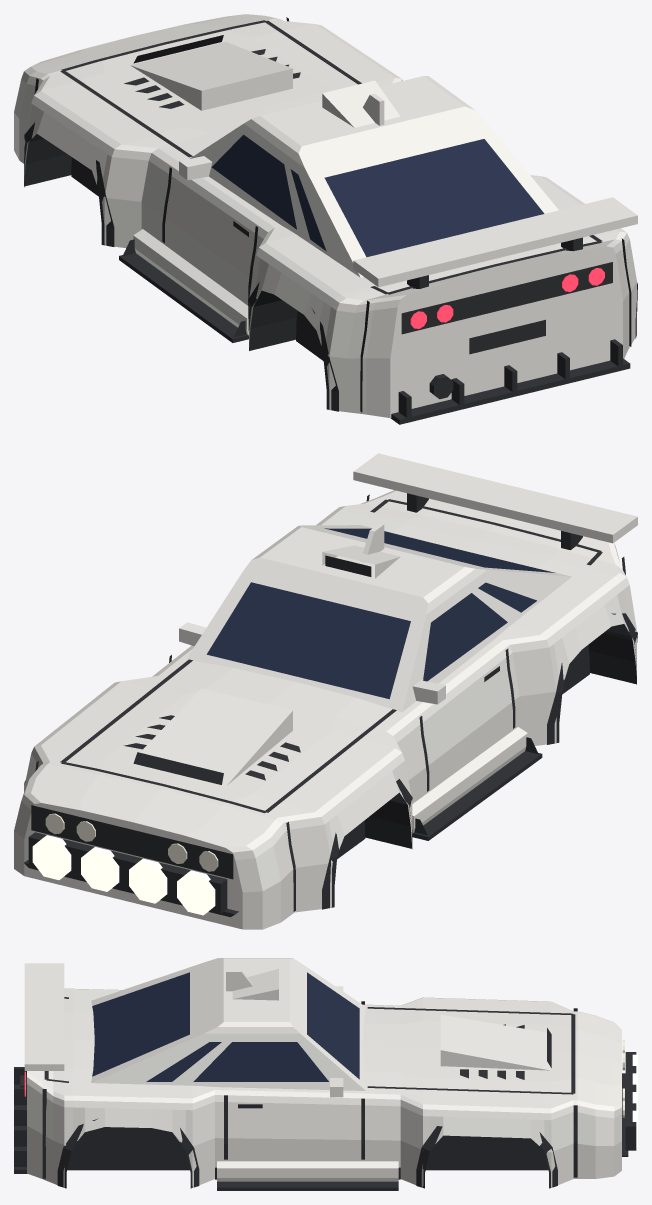
Rendered from Ryu.fbx.
The picture shows the model from 3 angles, top to bottom: view 1: azimuth 30°, elevation 25°; view 2: azimuth 150°, elevation 25°; view 3: azimuth 270°, elevation 25°; orthographic projection. The views are drawn at different scales.
Visible parts, largest first — view 1: BumperRear, Hood, RearWindow, Roof, Pillars, Fender_FL, Opt_Wing_Rally_WingBlade, Fender_RL, Door_FL, Opt_Hood_Scoop_HoodScoop, BumperFront, Opt_Diffuser_Race_AccDiffuserRace (+20 smaller); view 2: Hood, BumperFront, Windshield, Pillars, Roof, Fender_FL, Opt_Wing_Rally_WingBlade, Fender_RL, Opt_Hood_Scoop_HoodScoop, Door_FL, Cowl, Opt_Bumper_Lamps_RallyLamp (+20 smaller); view 3: Hood, Fender_FR, Door_FR, Pillars, Fender_RR, WheelWell, BumperFront, RearWindow, Roof, Opt_Hood_Scoop_HoodScoop, Cowl, Opt_Wing_Rally_WingBlade (+17 smaller).
Part boxes in pixels (x1=…): BumperRear: x1=366, y1=242, x2=627, y2=417; Hood: x1=41, y1=18, x2=394, y2=161; RearWindow: x1=324, y1=139, x2=544, y2=256; Roof: x1=244, y1=76, x2=487, y2=167; Pillars: x1=190, y1=123, x2=558, y2=277; Fender_FL: x1=24, y1=74, x2=178, y2=247; Opt_Wing_Rally_WingBlade: x1=353, y1=197, x2=637, y2=287; Fender_RL: x1=249, y1=224, x2=382, y2=414; Door_FL: x1=163, y1=164, x2=268, y2=305; Opt_Hood_Scoop_HoodScoop: x1=130, y1=42, x2=292, y2=110; BumperFront: x1=14, y1=14, x2=278, y2=163; Opt_Diffuser_Race_AccDiffuserRace: x1=391, y1=339, x2=630, y2=424; Hood: x1=41, y1=658, x2=407, y2=819; BumperFront: x1=14, y1=764, x2=291, y2=929; Windshield: x1=206, y1=582, x2=410, y2=699; Pillars: x1=186, y1=525, x2=571, y2=712; Roof: x1=244, y1=525, x2=486, y2=614; Fender_FL: x1=275, y1=714, x2=425, y2=913; Opt_Wing_Rally_WingBlade: x1=353, y1=453, x2=637, y2=543; Fender_RL: x1=497, y1=552, x2=636, y2=745; Opt_Hood_Scoop_HoodScoop: x1=130, y1=688, x2=292, y2=786; Door_FL: x1=408, y1=644, x2=513, y2=794; Cowl: x1=181, y1=510, x2=614, y2=713; Opt_Bumper_Lamps_RallyLamp: x1=32, y1=835, x2=215, y2=915; Hood: x1=365, y1=997, x2=577, y2=1108; Fender_FR: x1=365, y1=1093, x2=577, y2=1187; Door_FR: x1=223, y1=1090, x2=365, y2=1161; Pillars: x1=91, y1=963, x2=365, y2=1090; Fender_RR: x1=42, y1=1083, x2=223, y2=1187; WheelWell: x1=67, y1=1127, x2=548, y2=1170; BumperFront: x1=577, y1=1011, x2=621, y2=1178; RearWindow: x1=92, y1=972, x2=189, y2=1076; Roof: x1=203, y1=958, x2=300, y2=1033; Opt_Hood_Scoop_HoodScoop: x1=440, y1=1014, x2=551, y2=1070; Cowl: x1=73, y1=989, x2=365, y2=1098; Opt_Wing_Rally_WingBlade: x1=24, y1=963, x2=64, y2=1070.
Size of the model in its own units: 646 by 398 by 1410.
